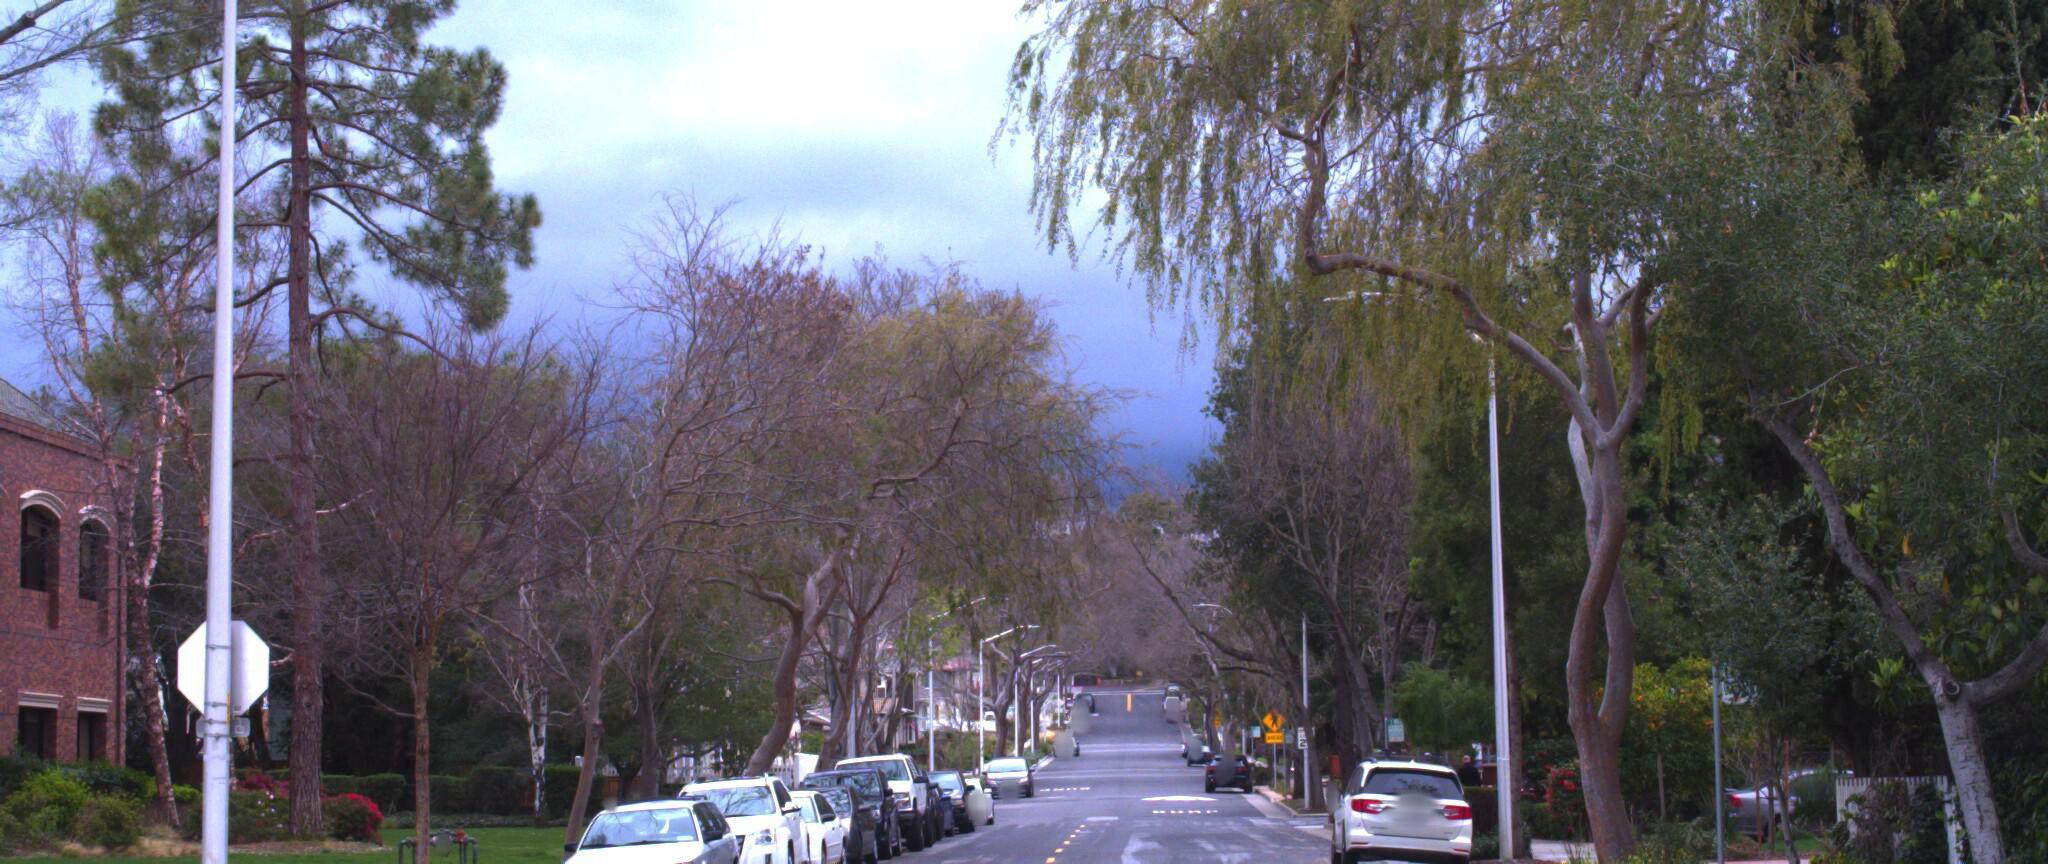car: (1328, 743, 1485, 864), (645, 766, 829, 864), (812, 748, 946, 856), (552, 792, 751, 864), (707, 784, 865, 864)
